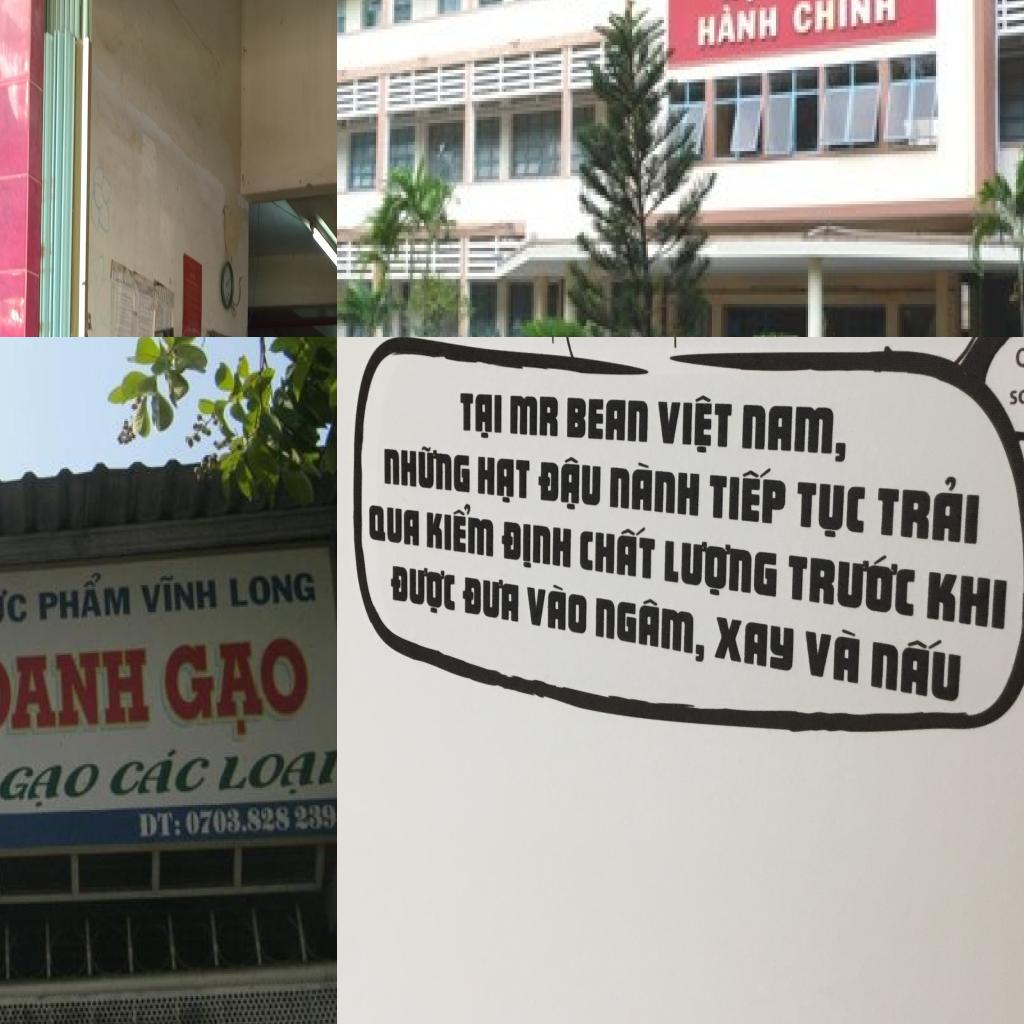text: (162, 636, 312, 745), (0, 648, 150, 736), (787, 547, 916, 618), (595, 591, 707, 665), (664, 536, 778, 604), (876, 474, 980, 545), (870, 630, 962, 704), (741, 405, 847, 465), (216, 749, 337, 800), (106, 747, 214, 800), (707, 463, 787, 530), (609, 460, 699, 518), (694, 0, 783, 57), (0, 762, 103, 810), (37, 570, 132, 622), (926, 571, 1008, 631), (657, 392, 732, 456), (383, 441, 471, 495), (580, 520, 656, 582), (713, 618, 795, 672), (796, 481, 866, 544), (500, 521, 572, 576), (426, 501, 494, 558), (537, 455, 601, 513), (566, 398, 648, 443), (390, 563, 456, 618), (805, 622, 860, 686), (138, 571, 219, 614), (526, 580, 586, 636), (229, 571, 317, 609), (463, 574, 519, 622), (476, 457, 530, 504), (509, 394, 559, 438), (369, 504, 419, 547), (461, 393, 502, 440), (0, 584, 28, 634), (140, 812, 182, 839), (1008, 386, 1024, 410)
